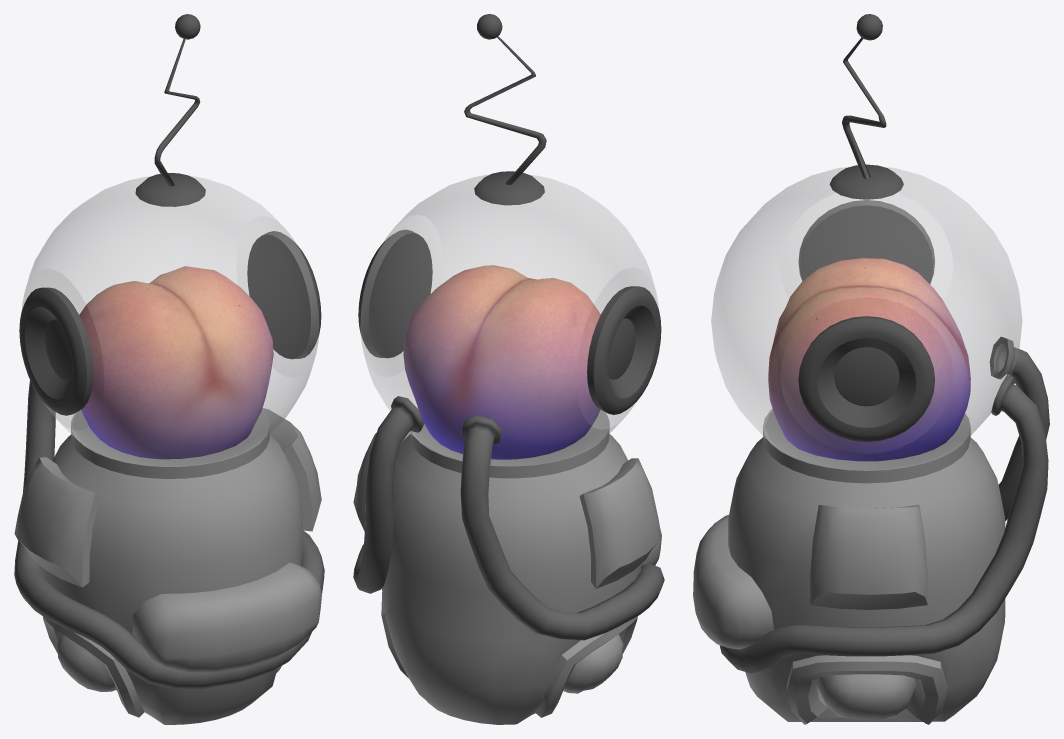
File: Body.glb
3 renders of one model, left to right at view 1: azimuth 30°, elevation 25°; view 2: azimuth 150°, elevation 25°; view 3: azimuth 270°, elevation 25°, orthographic. The views are drawn at different scales.
Visible parts, largest first — view 1: Sphere.001, Sphere, Ass06, Sphere.004, Sphere.002, Cylinder, Sphere.003; view 2: Sphere, Sphere.001, Ass06, Sphere.002, Sphere.004, Cylinder, Sphere.003; view 3: Sphere.001, Sphere, Sphere.004, Ass06, Sphere.002, Cylinder.
Part boxes in pixels (box(x1,y1,x2,y2)): Sphere.001: box(14, 408, 321, 724); Sphere: box(22, 176, 318, 465); Ass06: box(79, 266, 273, 459); Sphere.004: box(19, 231, 321, 415); Sphere.002: box(14, 380, 324, 689); Cylinder: box(135, 38, 205, 206); Sphere.003: box(175, 14, 200, 39); Sphere: box(360, 175, 658, 465); Sphere.001: box(353, 407, 661, 724); Ass06: box(403, 265, 600, 459); Sphere.002: box(353, 396, 664, 640); Sphere.004: box(358, 229, 661, 414); Cylinder: box(464, 36, 546, 205); Sphere.003: box(477, 14, 502, 39); Sphere.001: box(693, 409, 1005, 724); Sphere: box(711, 167, 1022, 469); Sphere.004: box(798, 200, 934, 441); Ass06: box(768, 258, 970, 461); Sphere.002: box(719, 336, 1049, 673); Cylinder: box(829, 37, 903, 199).
Bounding box in the file's own units: 1.93 × 4.43 × 2.06.
Materials: 5 (1 with a texture image).
